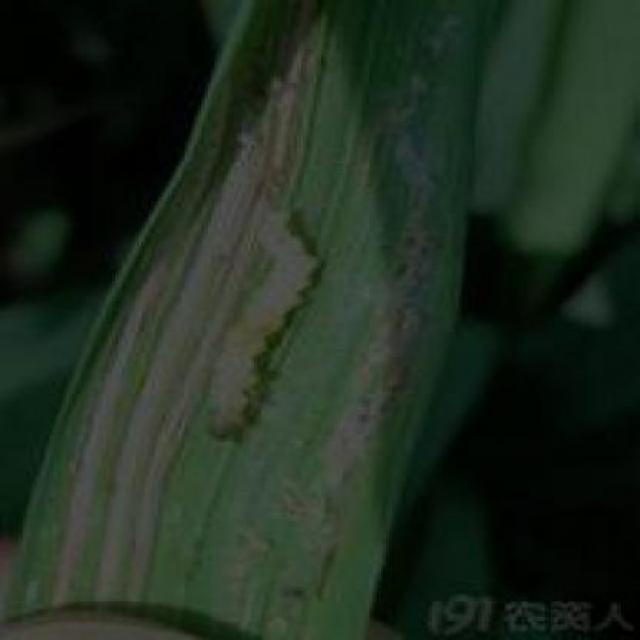leaf-folder: (146, 165, 412, 466)
